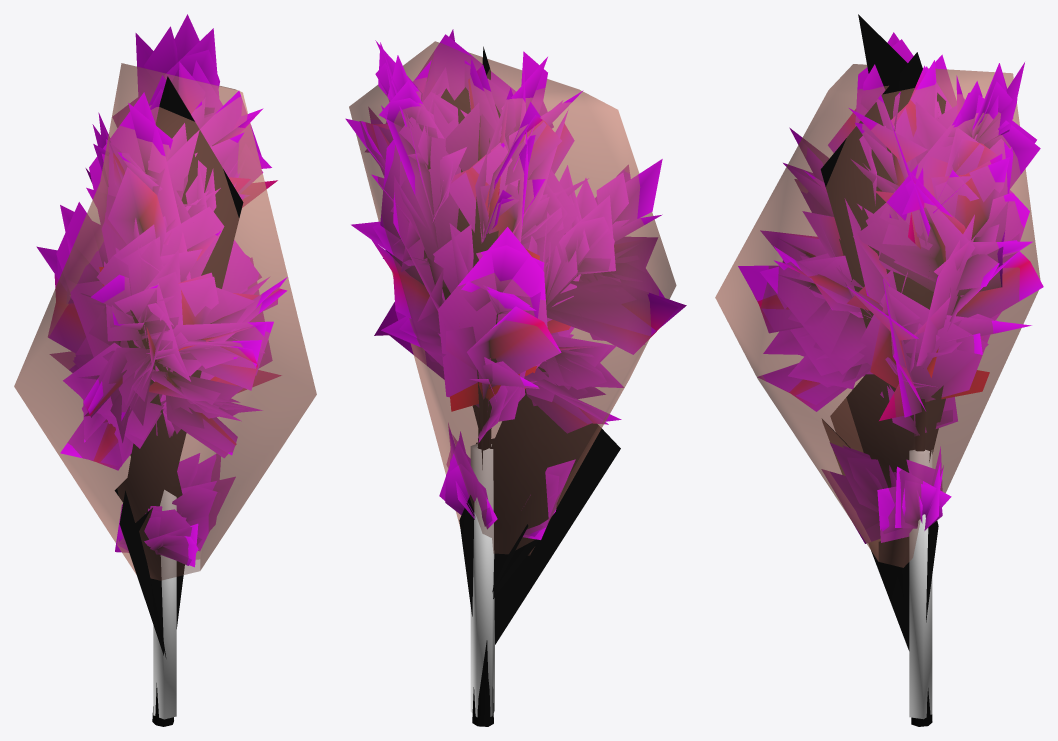
Rendered from tree_aspen_small_d.dae.
The picture shows the model from 3 angles, left to right: view 1: azimuth 30°, elevation 25°; view 2: azimuth 150°, elevation 25°; view 3: azimuth 270°, elevation 25°; orthographic projection. The views are drawn at different scales.
Visible parts, largest first — view 1: Colmesh_small04-1, Birch_Small_04_a300, Birch_Small_04_a600; view 2: Colmesh_small04-1, Birch_Small_04_a300, Birch_Small_04_a600; view 3: Colmesh_small04-1, Birch_Small_04_a300, Birch_Small_04_a600.
Boxes of the visible parts, x1=… form: Colmesh_small04-1: x1=14, y1=63, x2=316, y2=719; Birch_Small_04_a300: x1=36, y1=14, x2=287, y2=726; Birch_Small_04_a600: x1=57, y1=26, x2=287, y2=726; Colmesh_small04-1: x1=349, y1=41, x2=676, y2=717; Birch_Small_04_a300: x1=345, y1=34, x2=686, y2=726; Birch_Small_04_a600: x1=359, y1=29, x2=678, y2=725; Colmesh_small04-1: x1=715, y1=64, x2=1040, y2=719; Birch_Small_04_a300: x1=738, y1=39, x2=1036, y2=726; Birch_Small_04_a600: x1=753, y1=14, x2=1043, y2=726.
Size of the model in its own units: 3.14 by 3.4 by 7.89.
